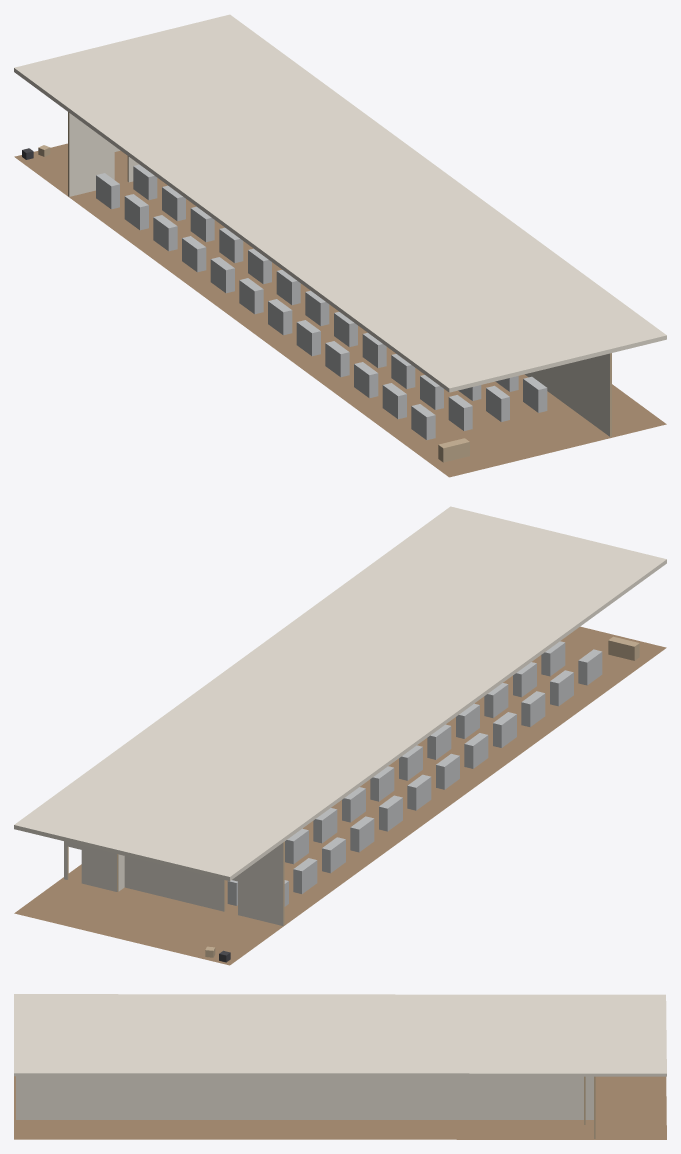
File: interior.glb
The picture shows the model from 3 angles, top to bottom: view 1: azimuth 30°, elevation 25°; view 2: azimuth 150°, elevation 25°; view 3: azimuth 270°, elevation 25°; orthographic projection. The views are drawn at different scales.
Parts seen in each view (by area): view 1: slabs, coarse-s0, partitions; view 2: slabs, coarse-s0, partitions; view 3: slabs, partitions.
Boxes of the visible parts, x1=… form: slabs: x1=14, y1=14, x2=666, y2=477; coarse-s0: x1=22, y1=145, x2=547, y2=462; partitions: x1=68, y1=112, x2=611, y2=436; slabs: x1=14, y1=506, x2=666, y2=965; coarse-s0: x1=205, y1=636, x2=639, y2=962; partitions: x1=64, y1=841, x2=284, y2=926; slabs: x1=14, y1=994, x2=666, y2=1139; partitions: x1=16, y1=1076, x2=595, y2=1138.
Bounding box in the file's own units: 14.1 × 5.5 × 48.89.
